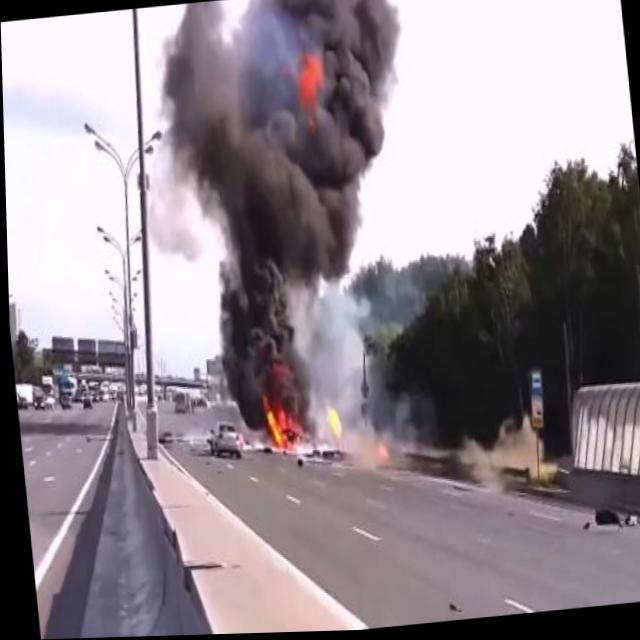fire: (259, 377, 345, 464), (292, 45, 327, 120)
